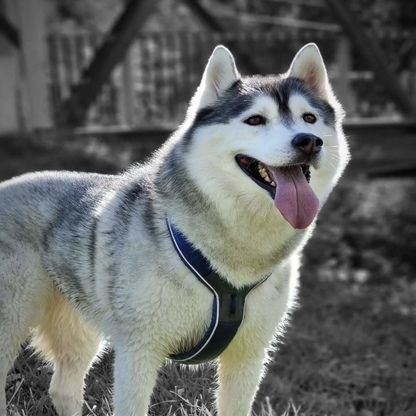husky: (3, 40, 354, 416)
